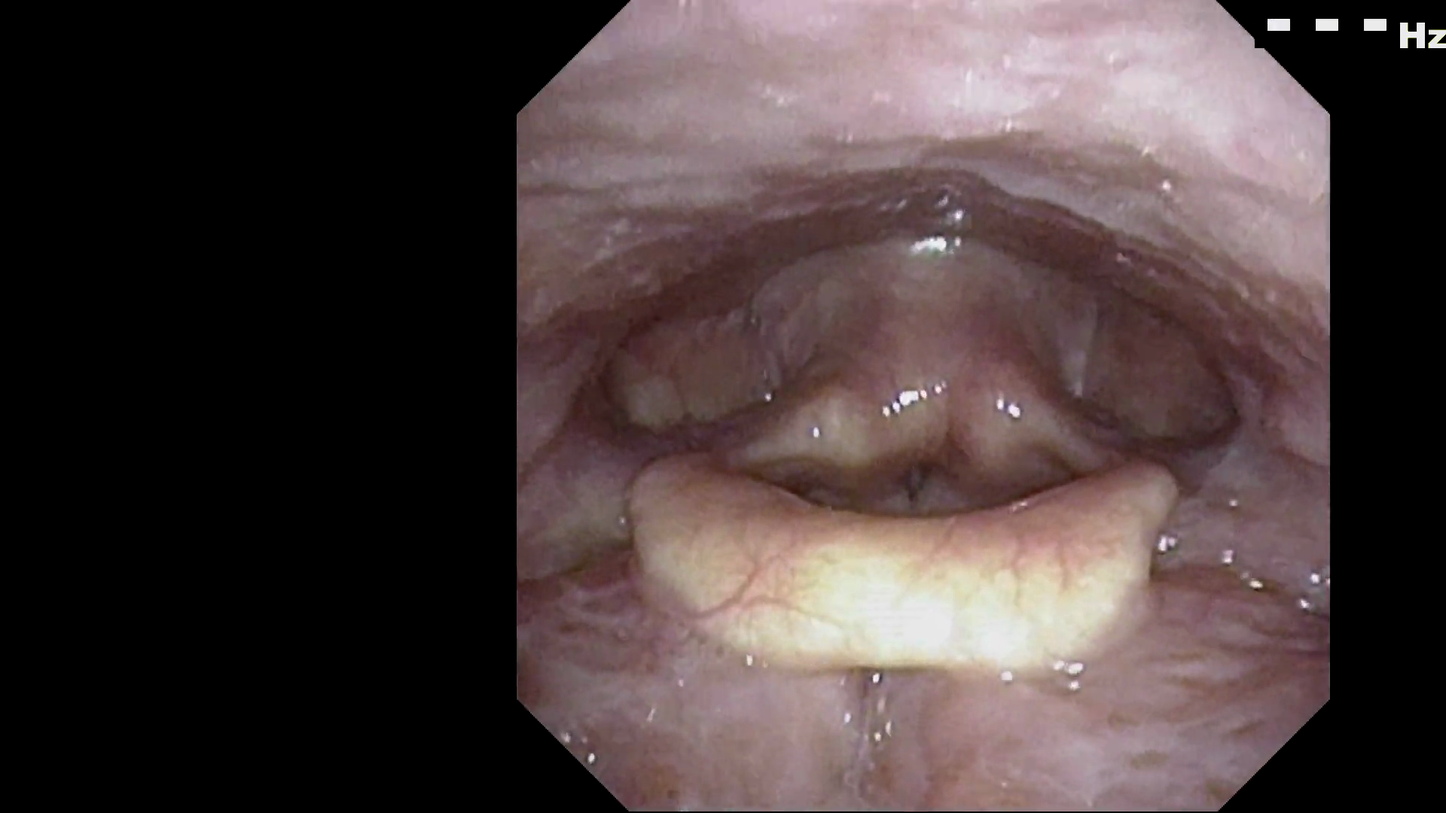epiglottis: (594, 428, 1224, 711)
trachea: (860, 408, 975, 548)
